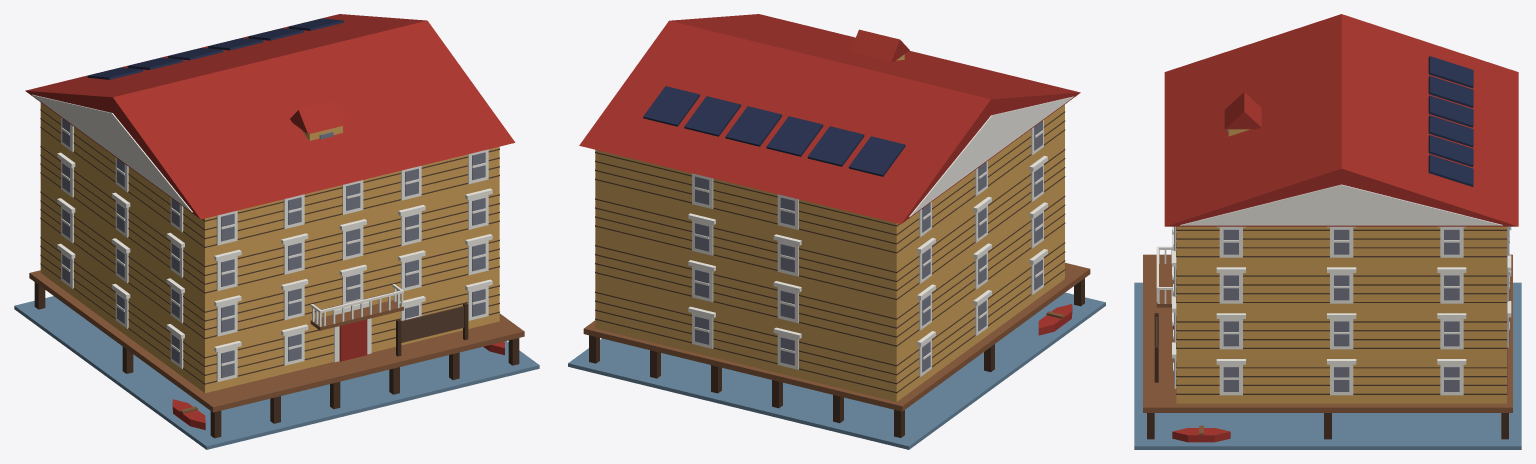
File: house-2x2-4f-palafito-a-solar.glb
3 renders of one model, left to right at view 1: azimuth 30°, elevation 25°; view 2: azimuth 150°, elevation 25°; view 3: azimuth 270°, elevation 25°, orthographic. The views are drawn at different scales.
Parts seen in each view (by area): view 1: house-2x2-4f-palafito-a-solar; view 2: house-2x2-4f-palafito-a-solar; view 3: house-2x2-4f-palafito-a-solar.
Boxes of the visible parts, <box> form: house-2x2-4f-palafito-a-solar: <box>14,14,539,449</box>; house-2x2-4f-palafito-a-solar: <box>568,14,1105,449</box>; house-2x2-4f-palafito-a-solar: <box>1134,14,1521,449</box>.
Bounding box in the file's own units: 1.99 × 1.57 × 1.99.
1 material, 1 textured.
